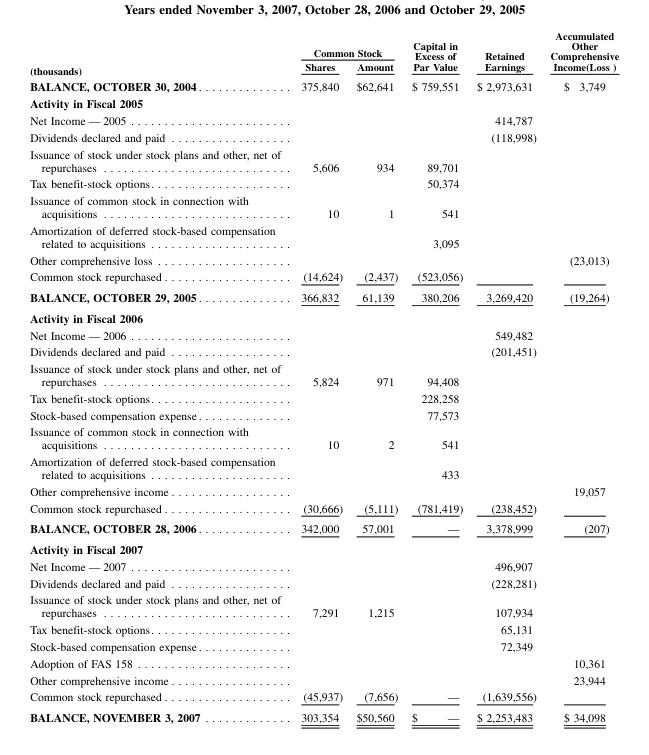table: (29, 29, 618, 723)
table column: (29, 29, 290, 723), (542, 29, 618, 723), (469, 29, 542, 723), (404, 29, 469, 723), (290, 29, 348, 723), (348, 29, 404, 723)
table column header: (29, 29, 618, 60)
table projected row header: (29, 307, 618, 326), (29, 538, 618, 557), (29, 94, 618, 111)
table row: (29, 29, 618, 60), (29, 145, 618, 175), (29, 191, 618, 221), (29, 221, 618, 251), (29, 359, 618, 389), (29, 452, 618, 482), (29, 423, 618, 452), (29, 591, 618, 620), (29, 286, 618, 307), (29, 517, 618, 538), (29, 307, 618, 326), (29, 538, 618, 557), (29, 687, 618, 706), (29, 268, 618, 286), (29, 499, 618, 517), (29, 60, 618, 77), (29, 77, 618, 94), (29, 94, 618, 111), (29, 111, 618, 128), (29, 128, 618, 145), (29, 251, 618, 268), (29, 342, 618, 359), (29, 389, 618, 406), (29, 406, 618, 423), (29, 482, 618, 499), (29, 557, 618, 574), (29, 574, 618, 591), (29, 620, 618, 637), (29, 637, 618, 654), (29, 654, 618, 671), (29, 706, 618, 723), (29, 175, 618, 191), (29, 326, 618, 342), (29, 671, 618, 687)
table spanning cell: (290, 29, 404, 60)
